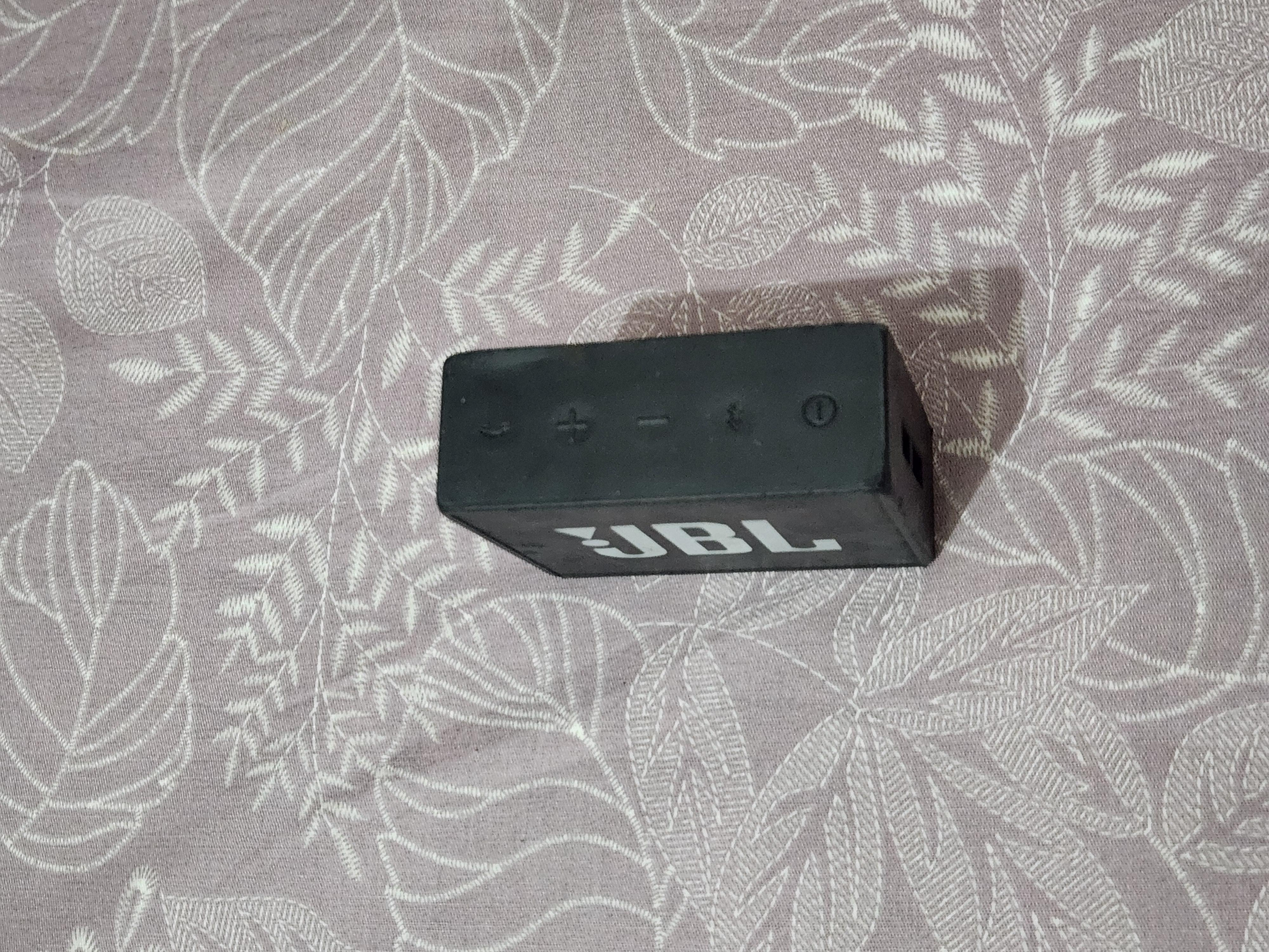speaker: (499, 322, 842, 707)
